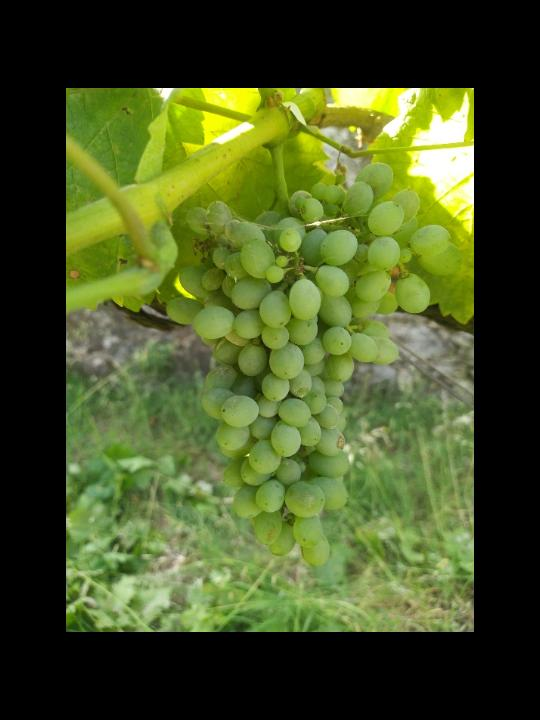grape: (160, 155, 467, 573)
